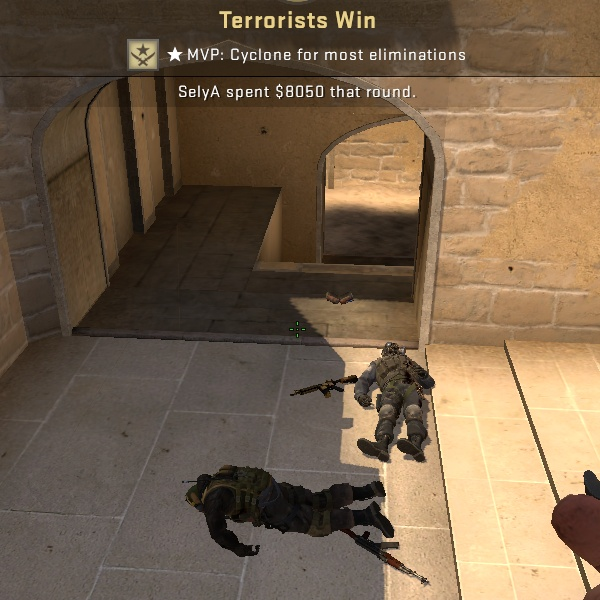t_head: (376, 338, 409, 368)
